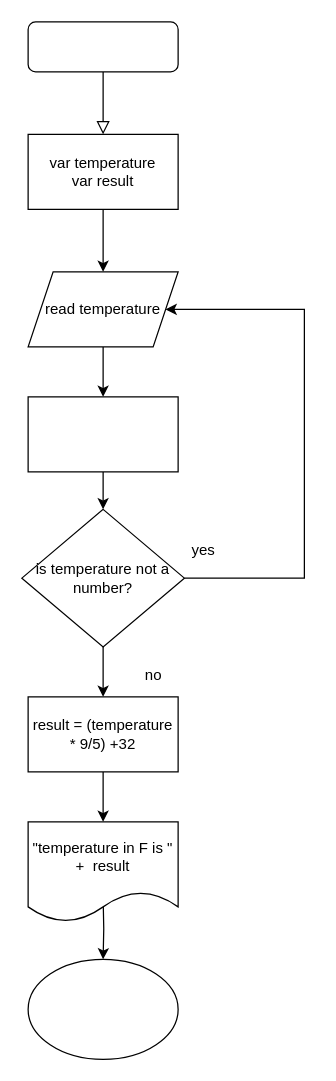
Image size: 336x1081. Some labels were removed from this diagram. Here are the shapes that lost their labels. From the top down, the centre of each, then its label:
(x=102, y=46): start
(x=102, y=434): convert temperature into floating point number
(x=102, y=1008): end
